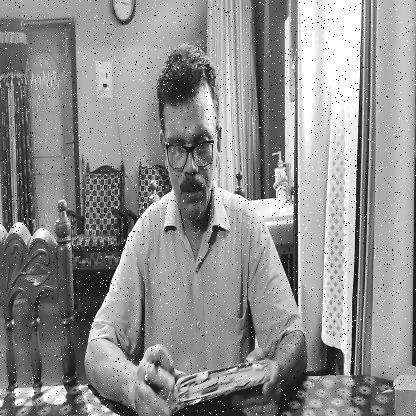Normal: (156, 46, 218, 223)
